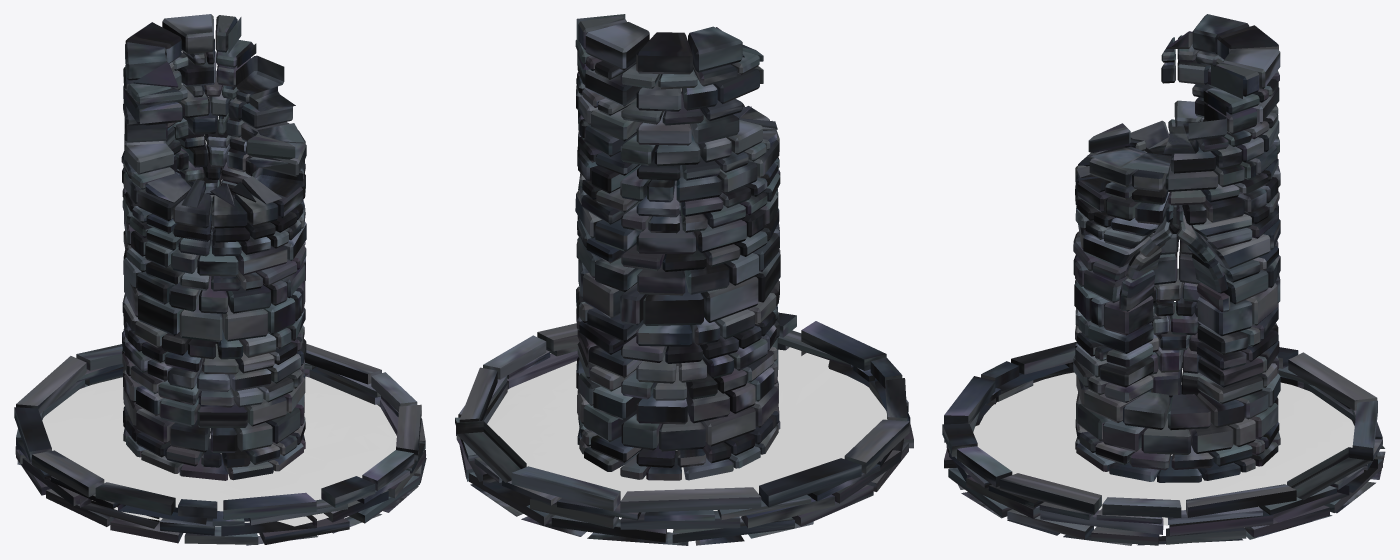
Rendered from wost el bled.fbx.
3 renders of one model, left to right at view 1: azimuth 30°, elevation 25°; view 2: azimuth 150°, elevation 25°; view 3: azimuth 270°, elevation 25°, orthographic. The views are drawn at different scales.
Visible parts, largest first — view 1: Wall, Wall.001, Plane; view 2: Wall, Wall.001, Plane; view 3: Wall, Wall.001, Plane.
Part boxes in pixels (box(x1,y1,x2,y2)): Wall: box(121, 14, 306, 480); Wall.001: box(14, 344, 426, 545); Plane: box(42, 376, 396, 526); Wall: box(575, 14, 780, 480); Wall.001: box(455, 312, 913, 545); Plane: box(487, 347, 887, 510); Wall: box(1073, 14, 1280, 482); Wall.001: box(942, 342, 1385, 545); Plane: box(973, 368, 1354, 525).
Bounding box in the file's own units: 1721 × 1868 × 1825.
Materials: 2 (1 with a texture image).
